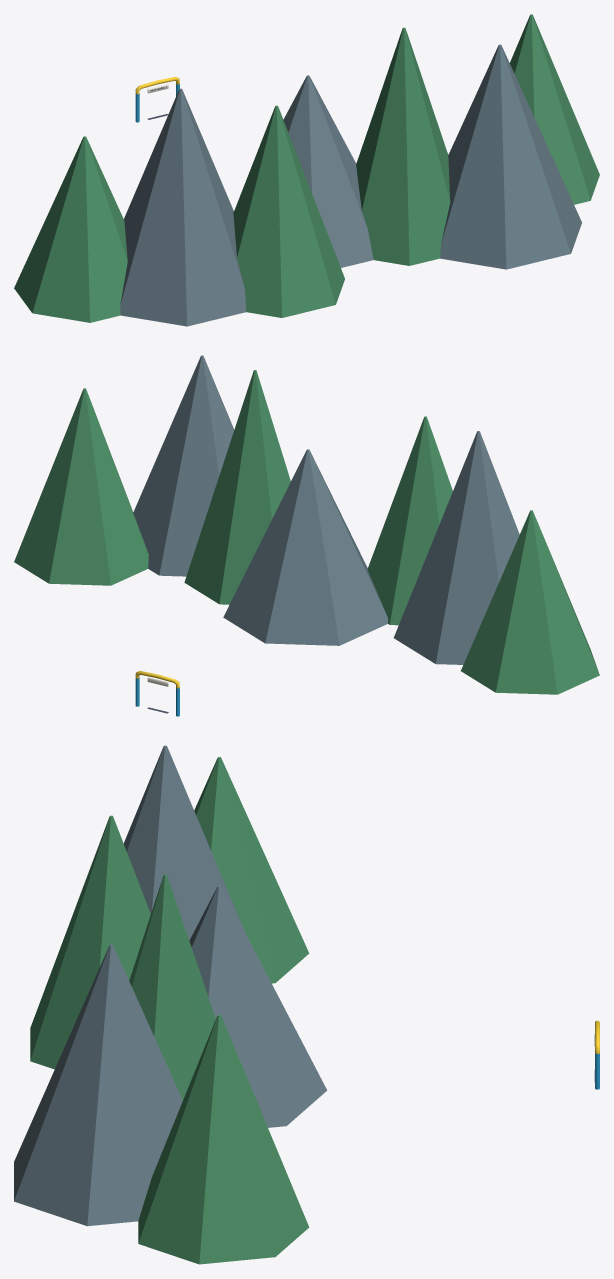
The model's file is senku2_escenario_r8.glb.
3 renders of one model, top to bottom at view 1: azimuth 30°, elevation 25°; view 2: azimuth 150°, elevation 25°; view 3: azimuth 270°, elevation 25°, orthographic. The views are drawn at different scales.
Parts seen in each view (by area): view 1: faceted mountain, faceted mountain.001; view 2: faceted mountain, faceted mountain.001; view 3: faceted mountain, faceted mountain.001.
Boxes of the visible parts, x1,y1,x2,y2 form: faceted mountain: [14, 14, 599, 322]; faceted mountain.001: [120, 44, 581, 326]; faceted mountain: [14, 370, 599, 694]; faceted mountain.001: [133, 355, 519, 664]; faceted mountain: [30, 757, 309, 1264]; faceted mountain.001: [14, 745, 327, 1226].
Bounding box in the file's own units: 91.5 × 32 × 65.09.
